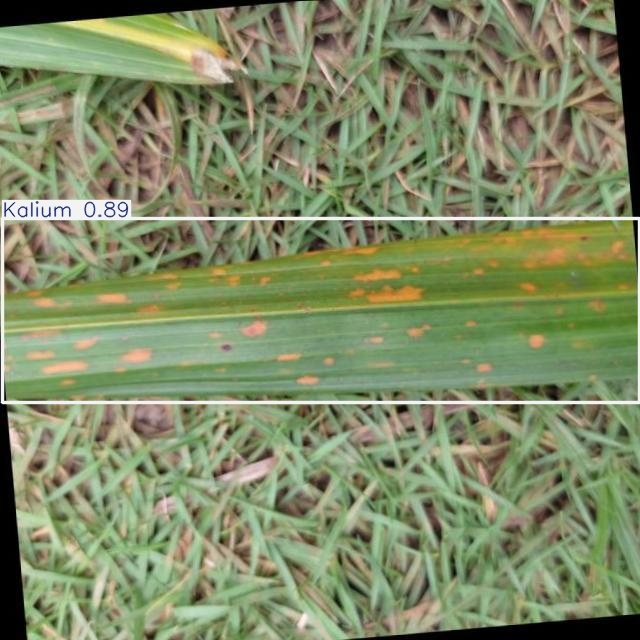Kalium: (2, 218, 640, 403)
